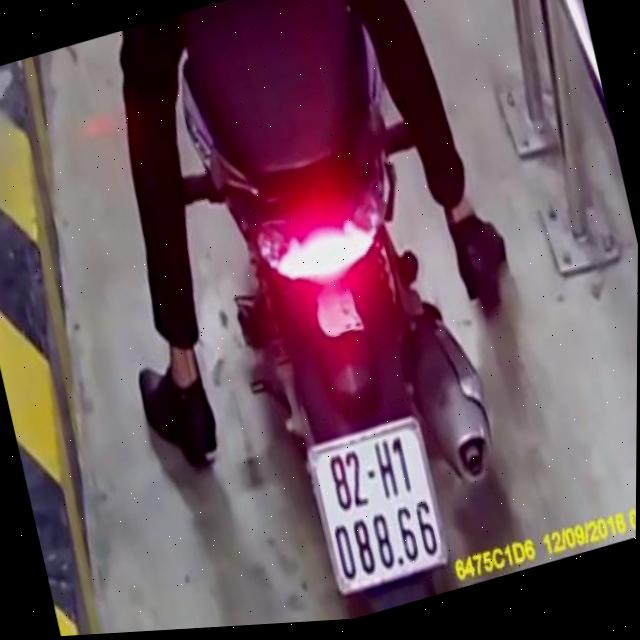motorcycle: (144, 0, 538, 631)
plate: (300, 411, 449, 595)
